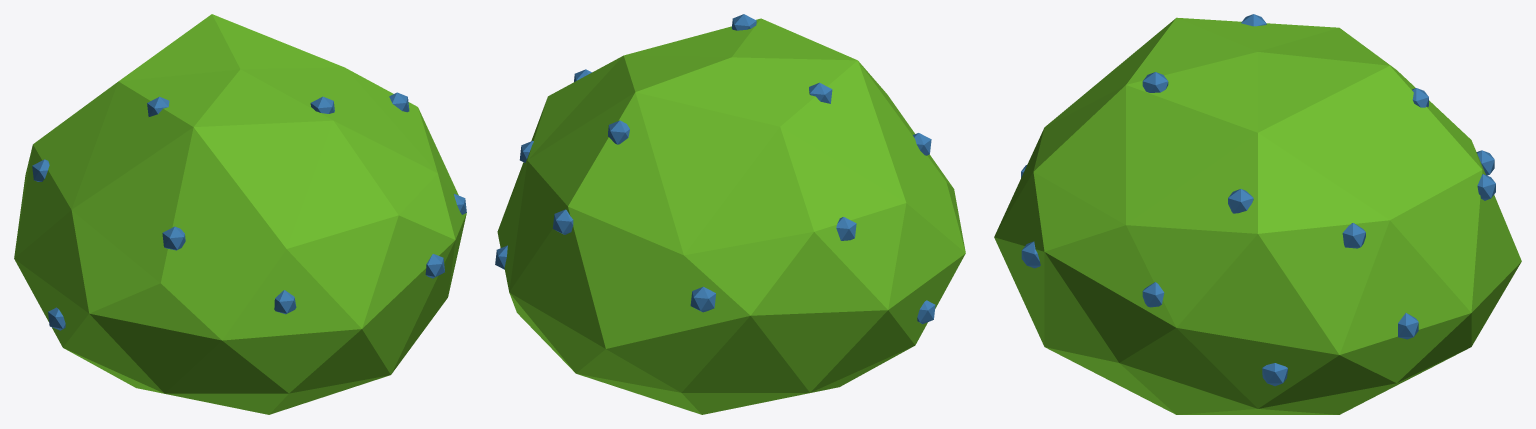
Rendered from Куст№3.fbx.
The picture shows the model from 3 angles, left to right: view 1: azimuth 30°, elevation 25°; view 2: azimuth 150°, elevation 25°; view 3: azimuth 270°, elevation 25°; orthographic projection. The views are drawn at different scales.
Visible parts, largest first — view 1: Куст №3; view 2: Куст №3; view 3: Куст №3.
Part boxes in pixels (left/top/right/bottom): Куст №3: left=14, top=14, right=466, bottom=414; Куст №3: left=495, top=14, right=965, bottom=414; Куст №3: left=994, top=14, right=1521, bottom=414.
Bounding box in the file's own units: 559 × 442 × 613.
